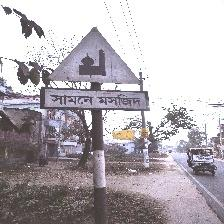Mosque in front: (41, 29, 147, 112)
